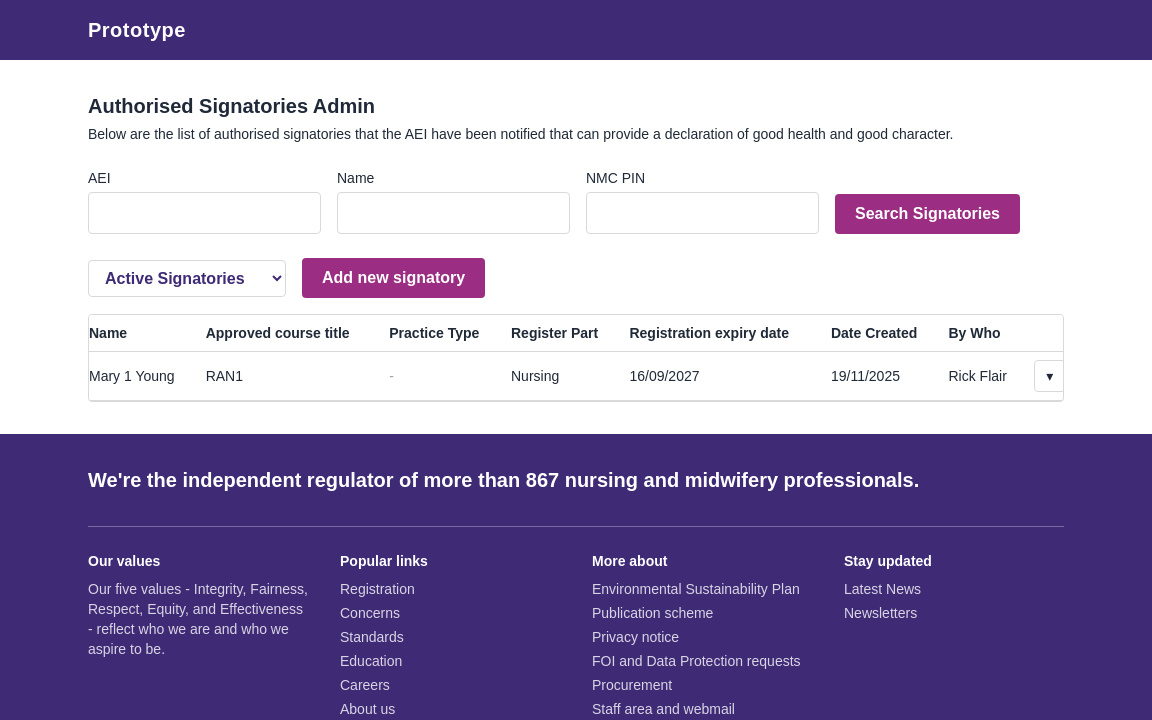
Test: AuthorisedSignatoriesPage › fetches Active Signatories by default, with Remove Signatory available per row
expect the cell "Mary 1 Young" is shown: met, box [89, 352, 206, 400]
Click the button named "Actions for" at {"x": 1050, "y": 376}, box [1034, 360, 1066, 392]
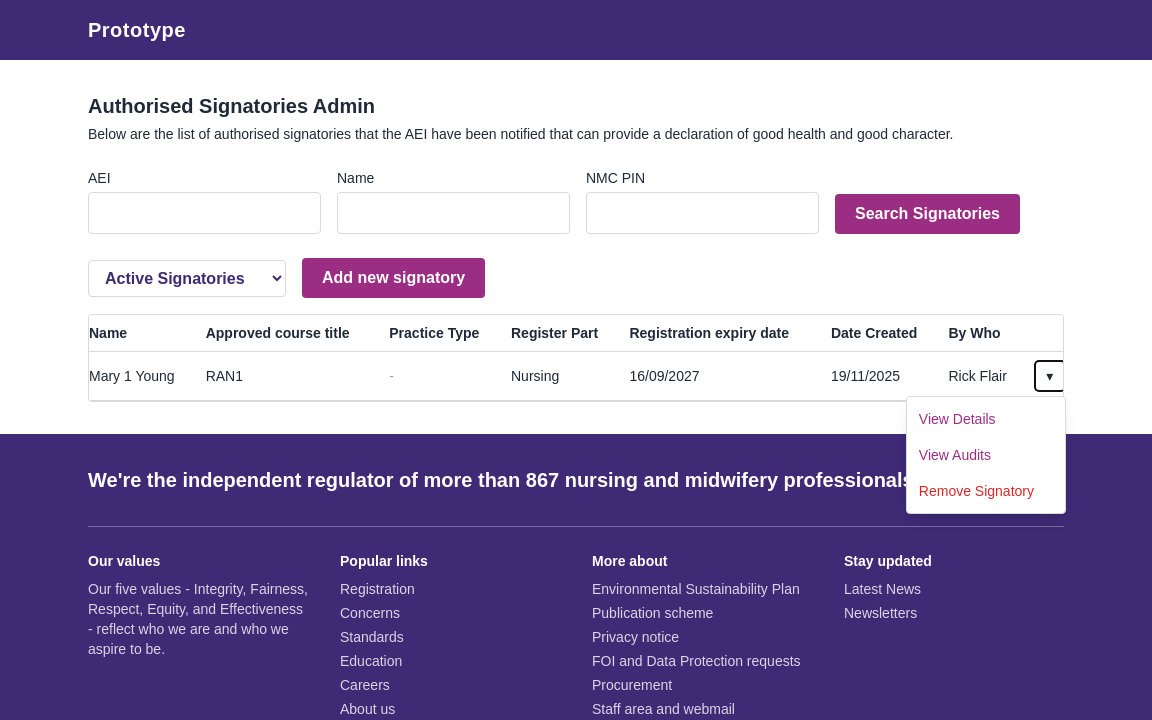
expect the button "Remove Signatory" is shown: met, box [907, 473, 1065, 509]
